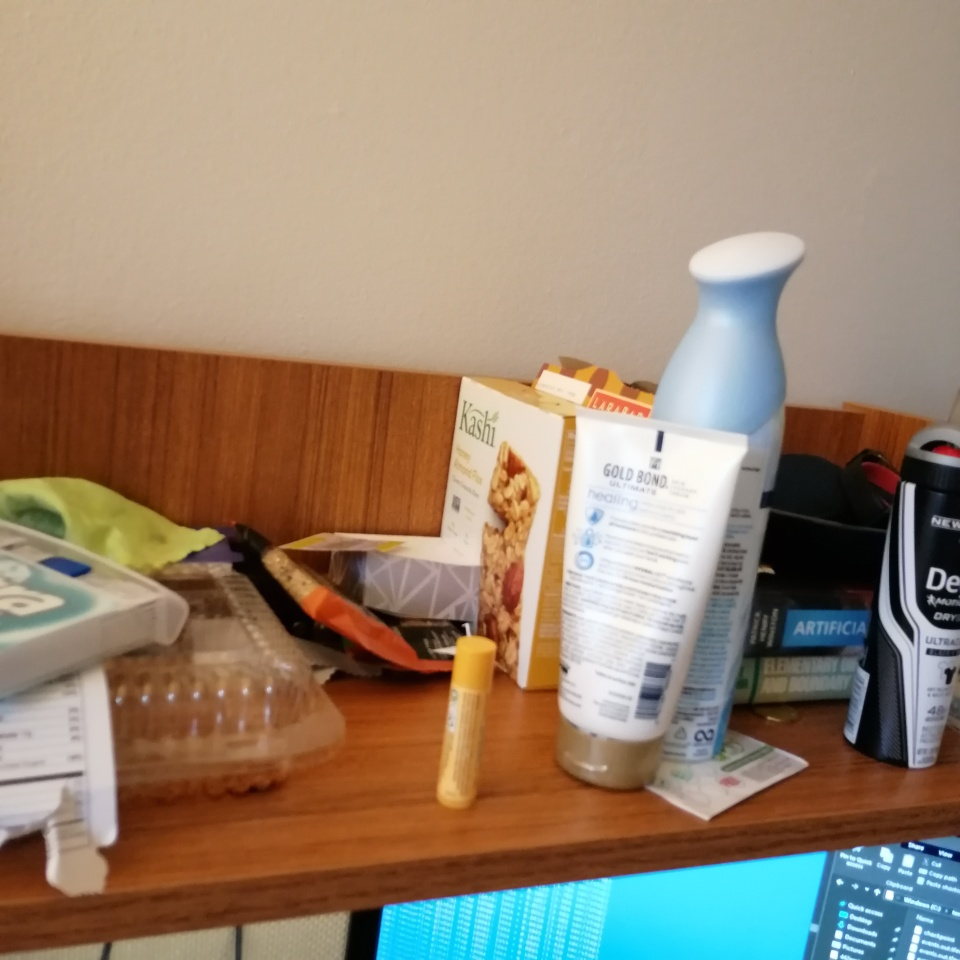chapstick: (435, 635, 497, 809)
